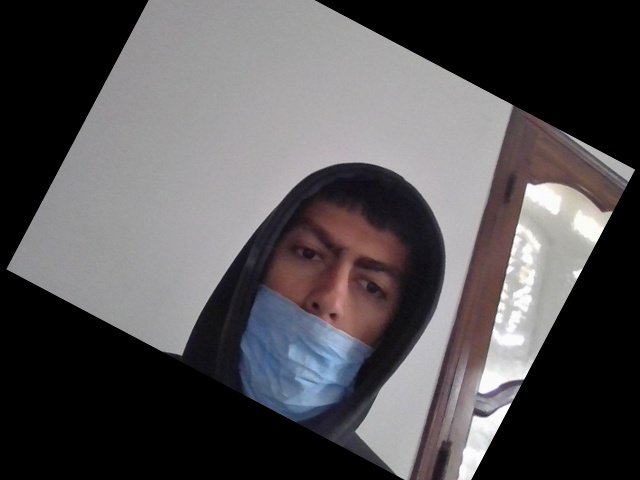mask_weared_incorrect: (240, 199, 413, 424)
